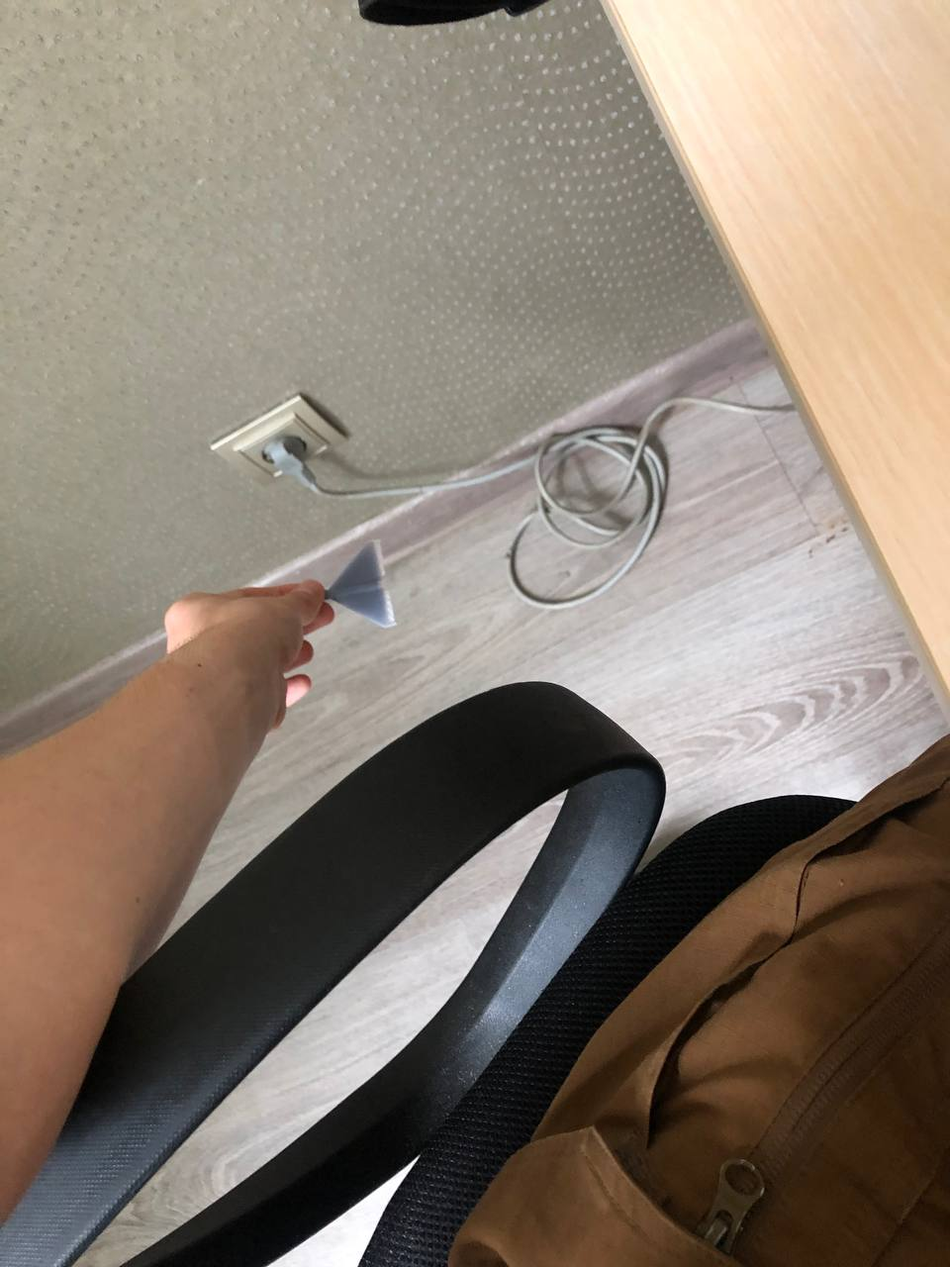shahed: (324, 537, 399, 630)
